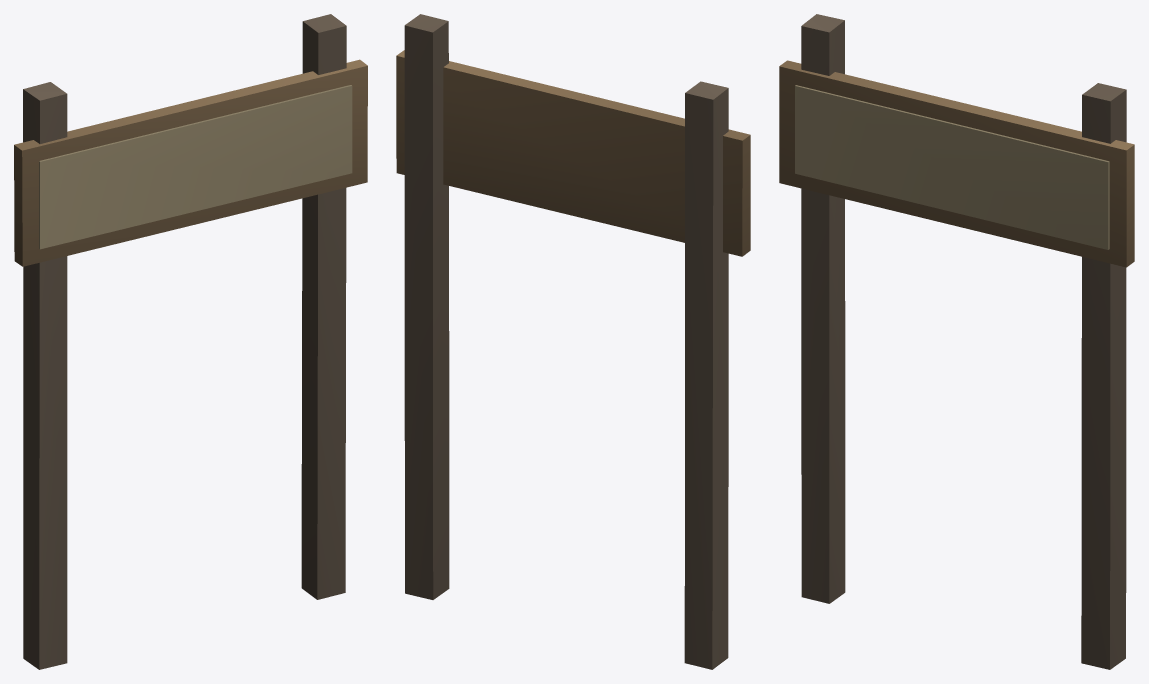
Rendered from ph_prop_v_sign.glb.
The picture shows the model from 3 angles, left to right: view 1: azimuth 30°, elevation 25°; view 2: azimuth 150°, elevation 25°; view 3: azimuth 330°, elevation 25°; orthographic projection.
Parts seen in each view (by area): view 1: ph_prop_v_sign; view 2: ph_prop_v_sign; view 3: ph_prop_v_sign.
Part boxes in pixels (bbox=[...]): ph_prop_v_sign: bbox=[14, 14, 367, 669]; ph_prop_v_sign: bbox=[396, 14, 750, 669]; ph_prop_v_sign: bbox=[779, 14, 1134, 669].
Bounding box in the file's own units: 1.24 × 1.95 × 0.1263.
